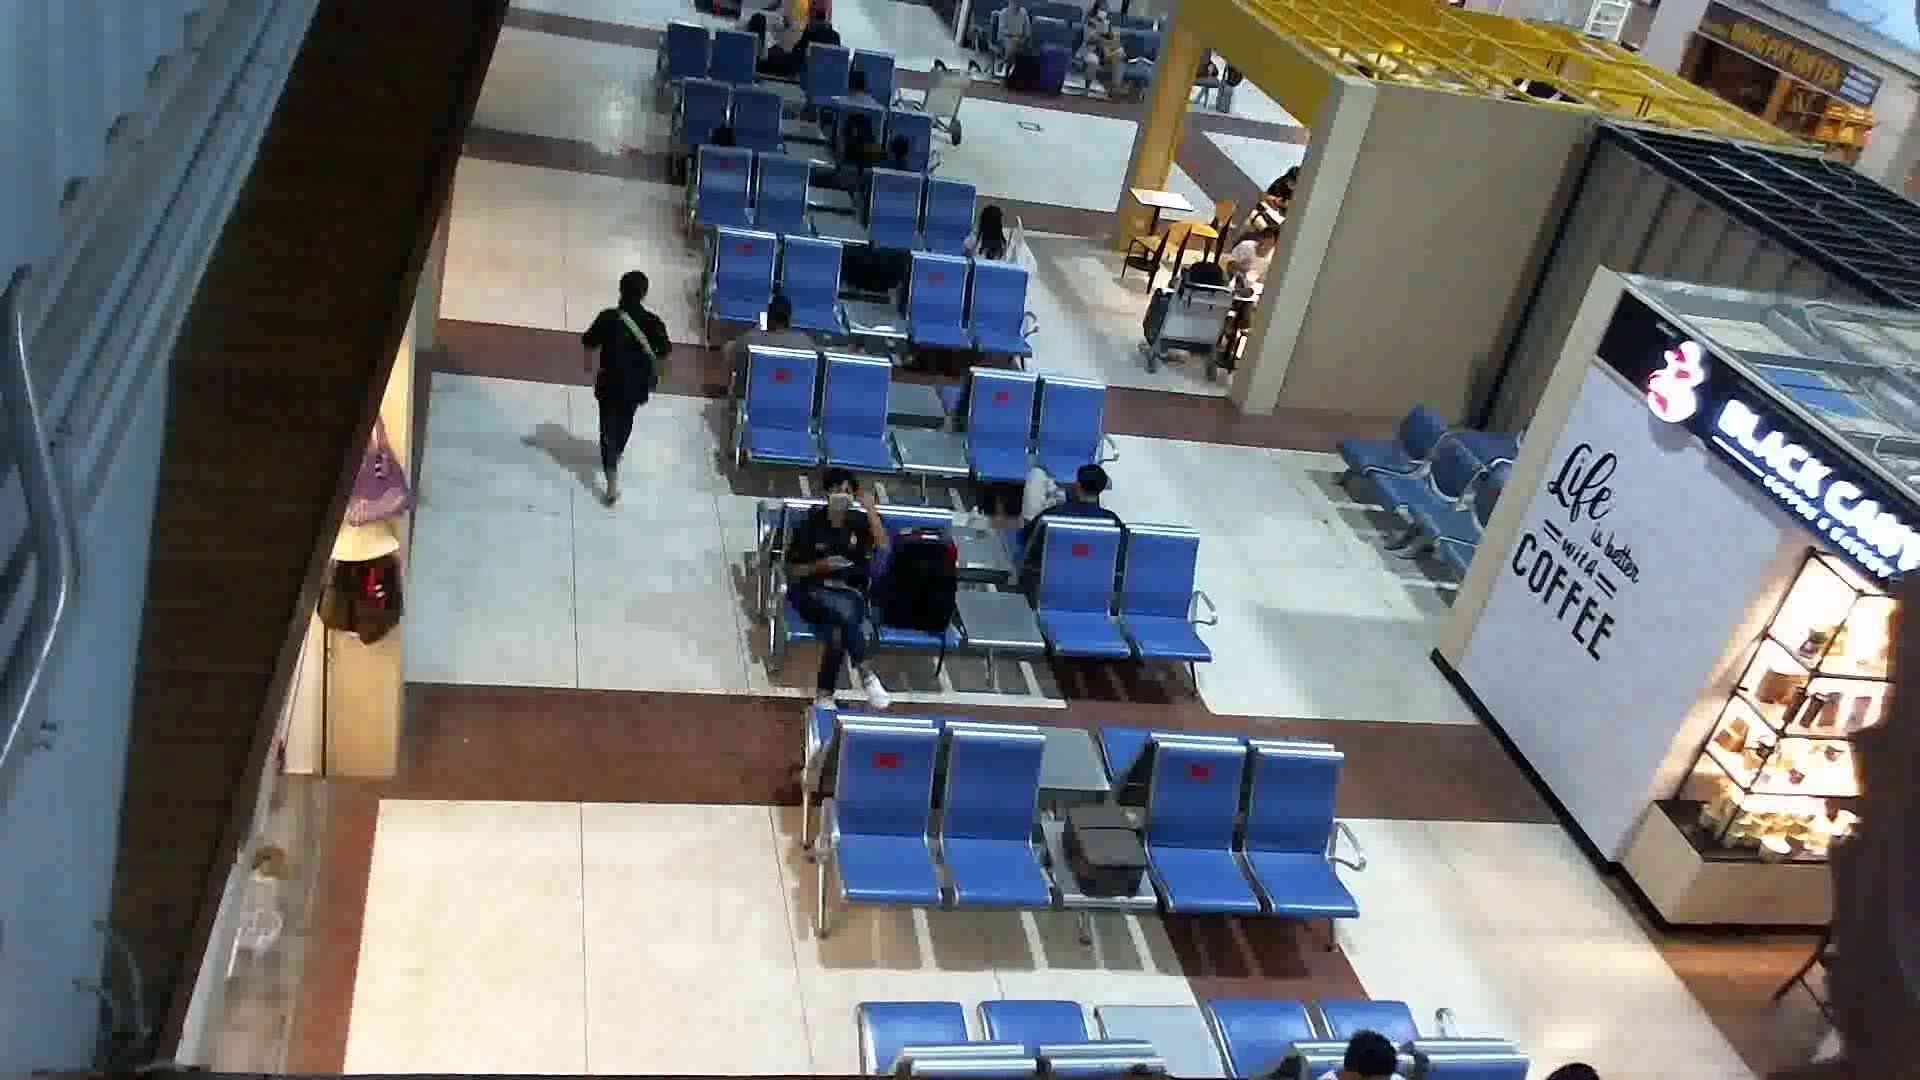luggage: (868, 514, 970, 662), (1054, 799, 1158, 911)
people: (770, 469, 906, 740), (564, 262, 684, 511)
